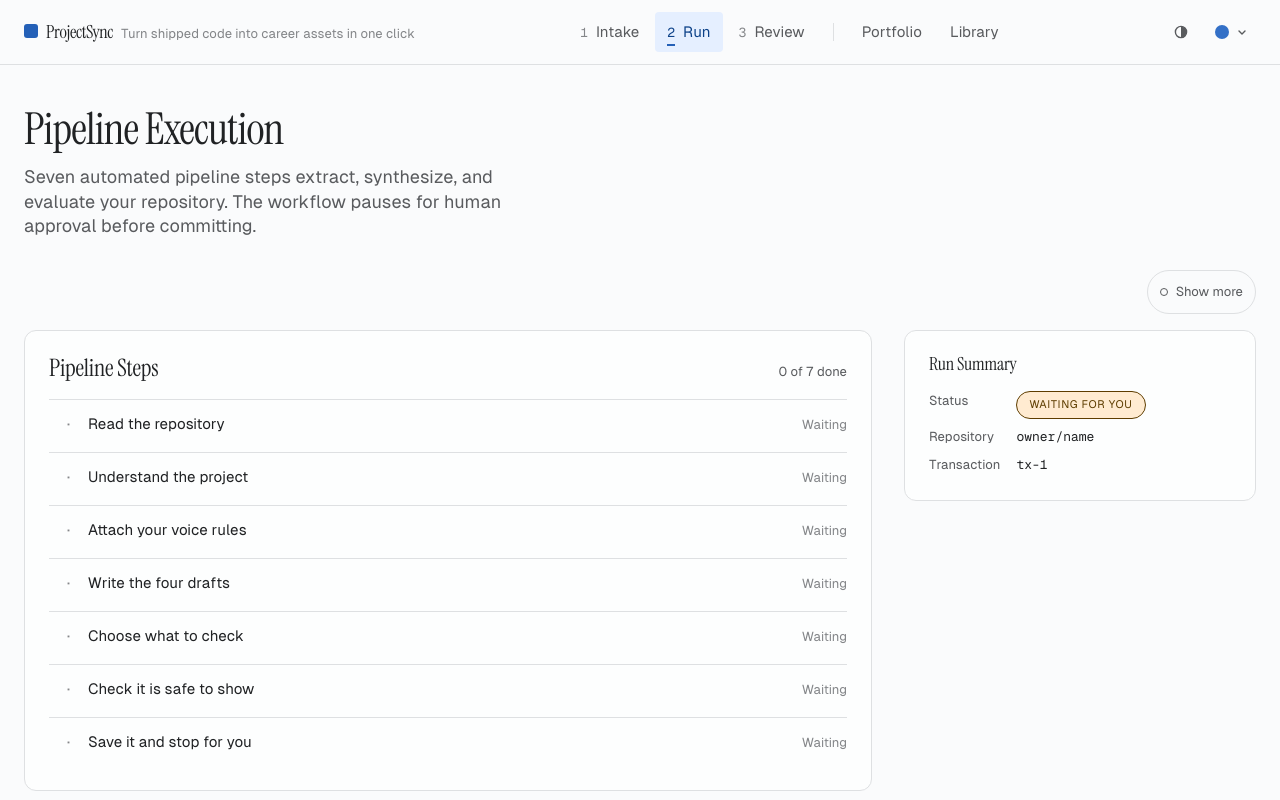
it: offers no control that the service would refuse
expect the text "Waiting for you" is shown: met, box [1016,391,1146,419]
expect the text "tx-1" is shown: met, box [1016,456,1048,474]
Click the button "1 Intake": click(610, 32) [568,12,651,52]
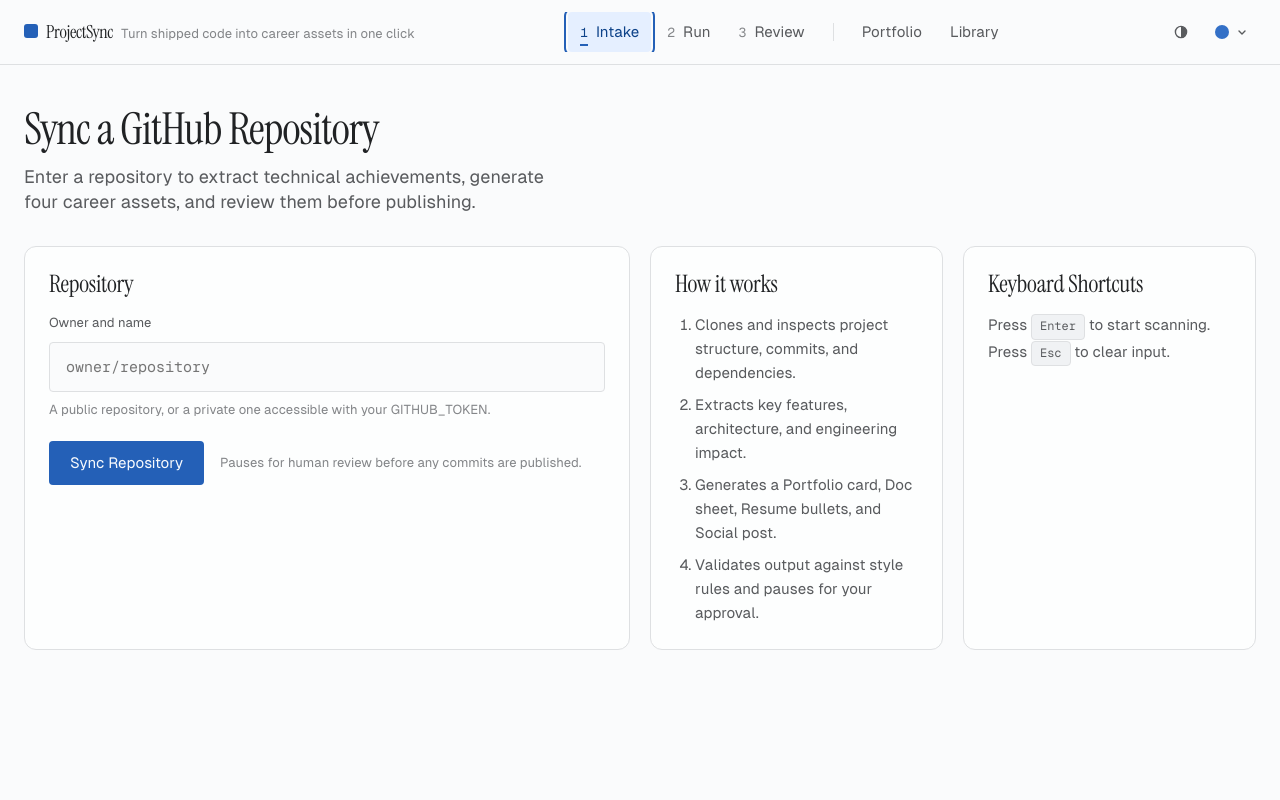
Click the button "2 Run": click(689, 32) [655,12,723,52]
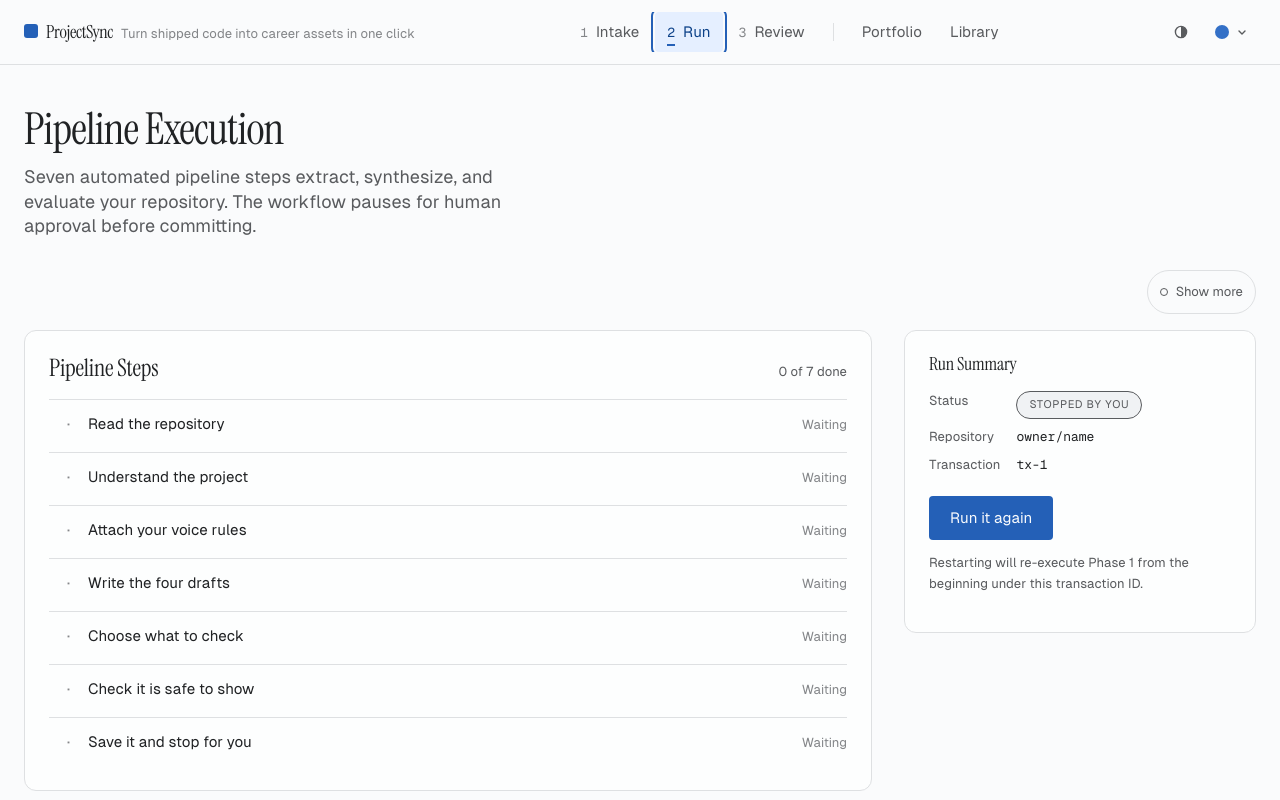
expect the text "Stopped by you" is shown: met, box [1016,391,1142,419]
expect the button "Run it again" is shown: met, box [929,496,1053,540]
